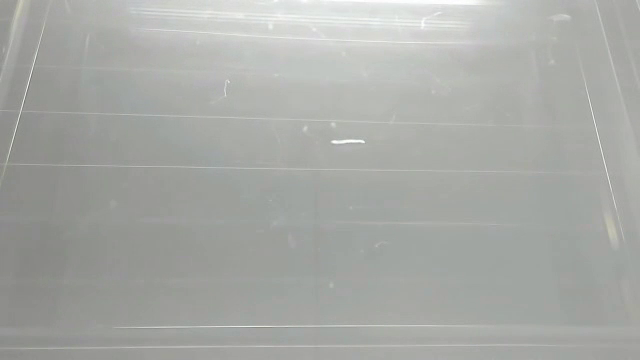alpha: (326, 133, 368, 150), (542, 12, 580, 24)
